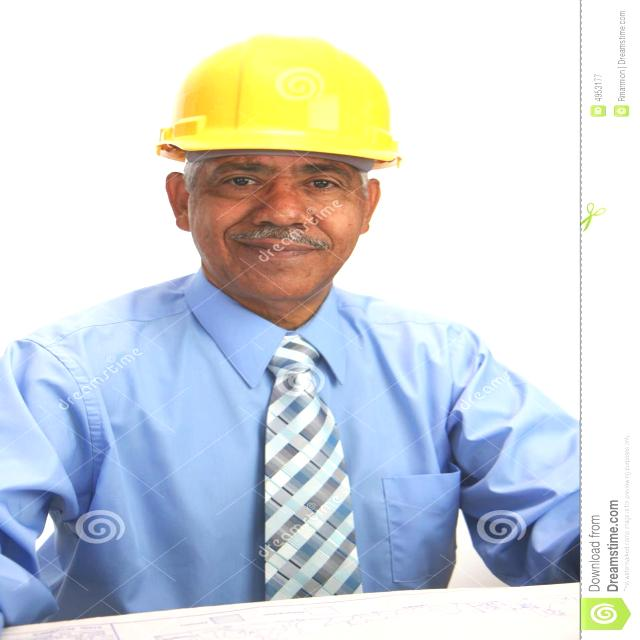face_nomask: (182, 146, 364, 307)
head_helmet: (162, 30, 408, 166)
person: (1, 29, 570, 450)
